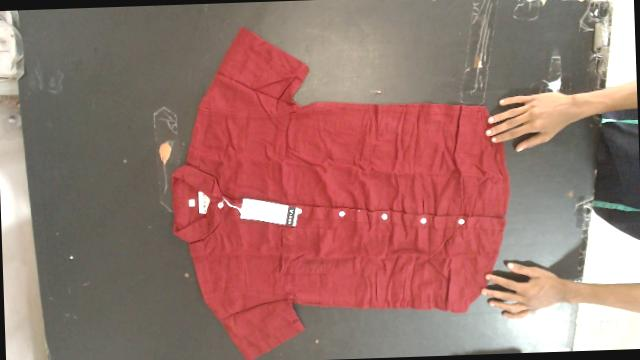new-garment: (172, 28, 509, 360)
